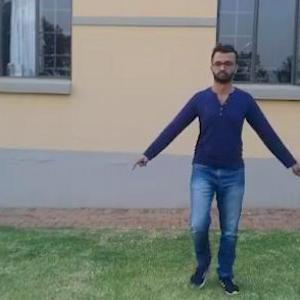land: (139, 45, 299, 290)
